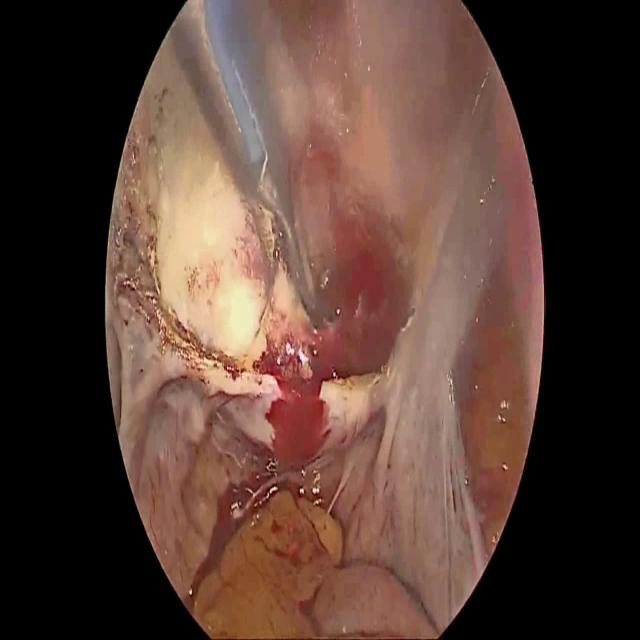surgical-area: (106, 0, 544, 639)
surgical-tool: (168, 0, 298, 276)
